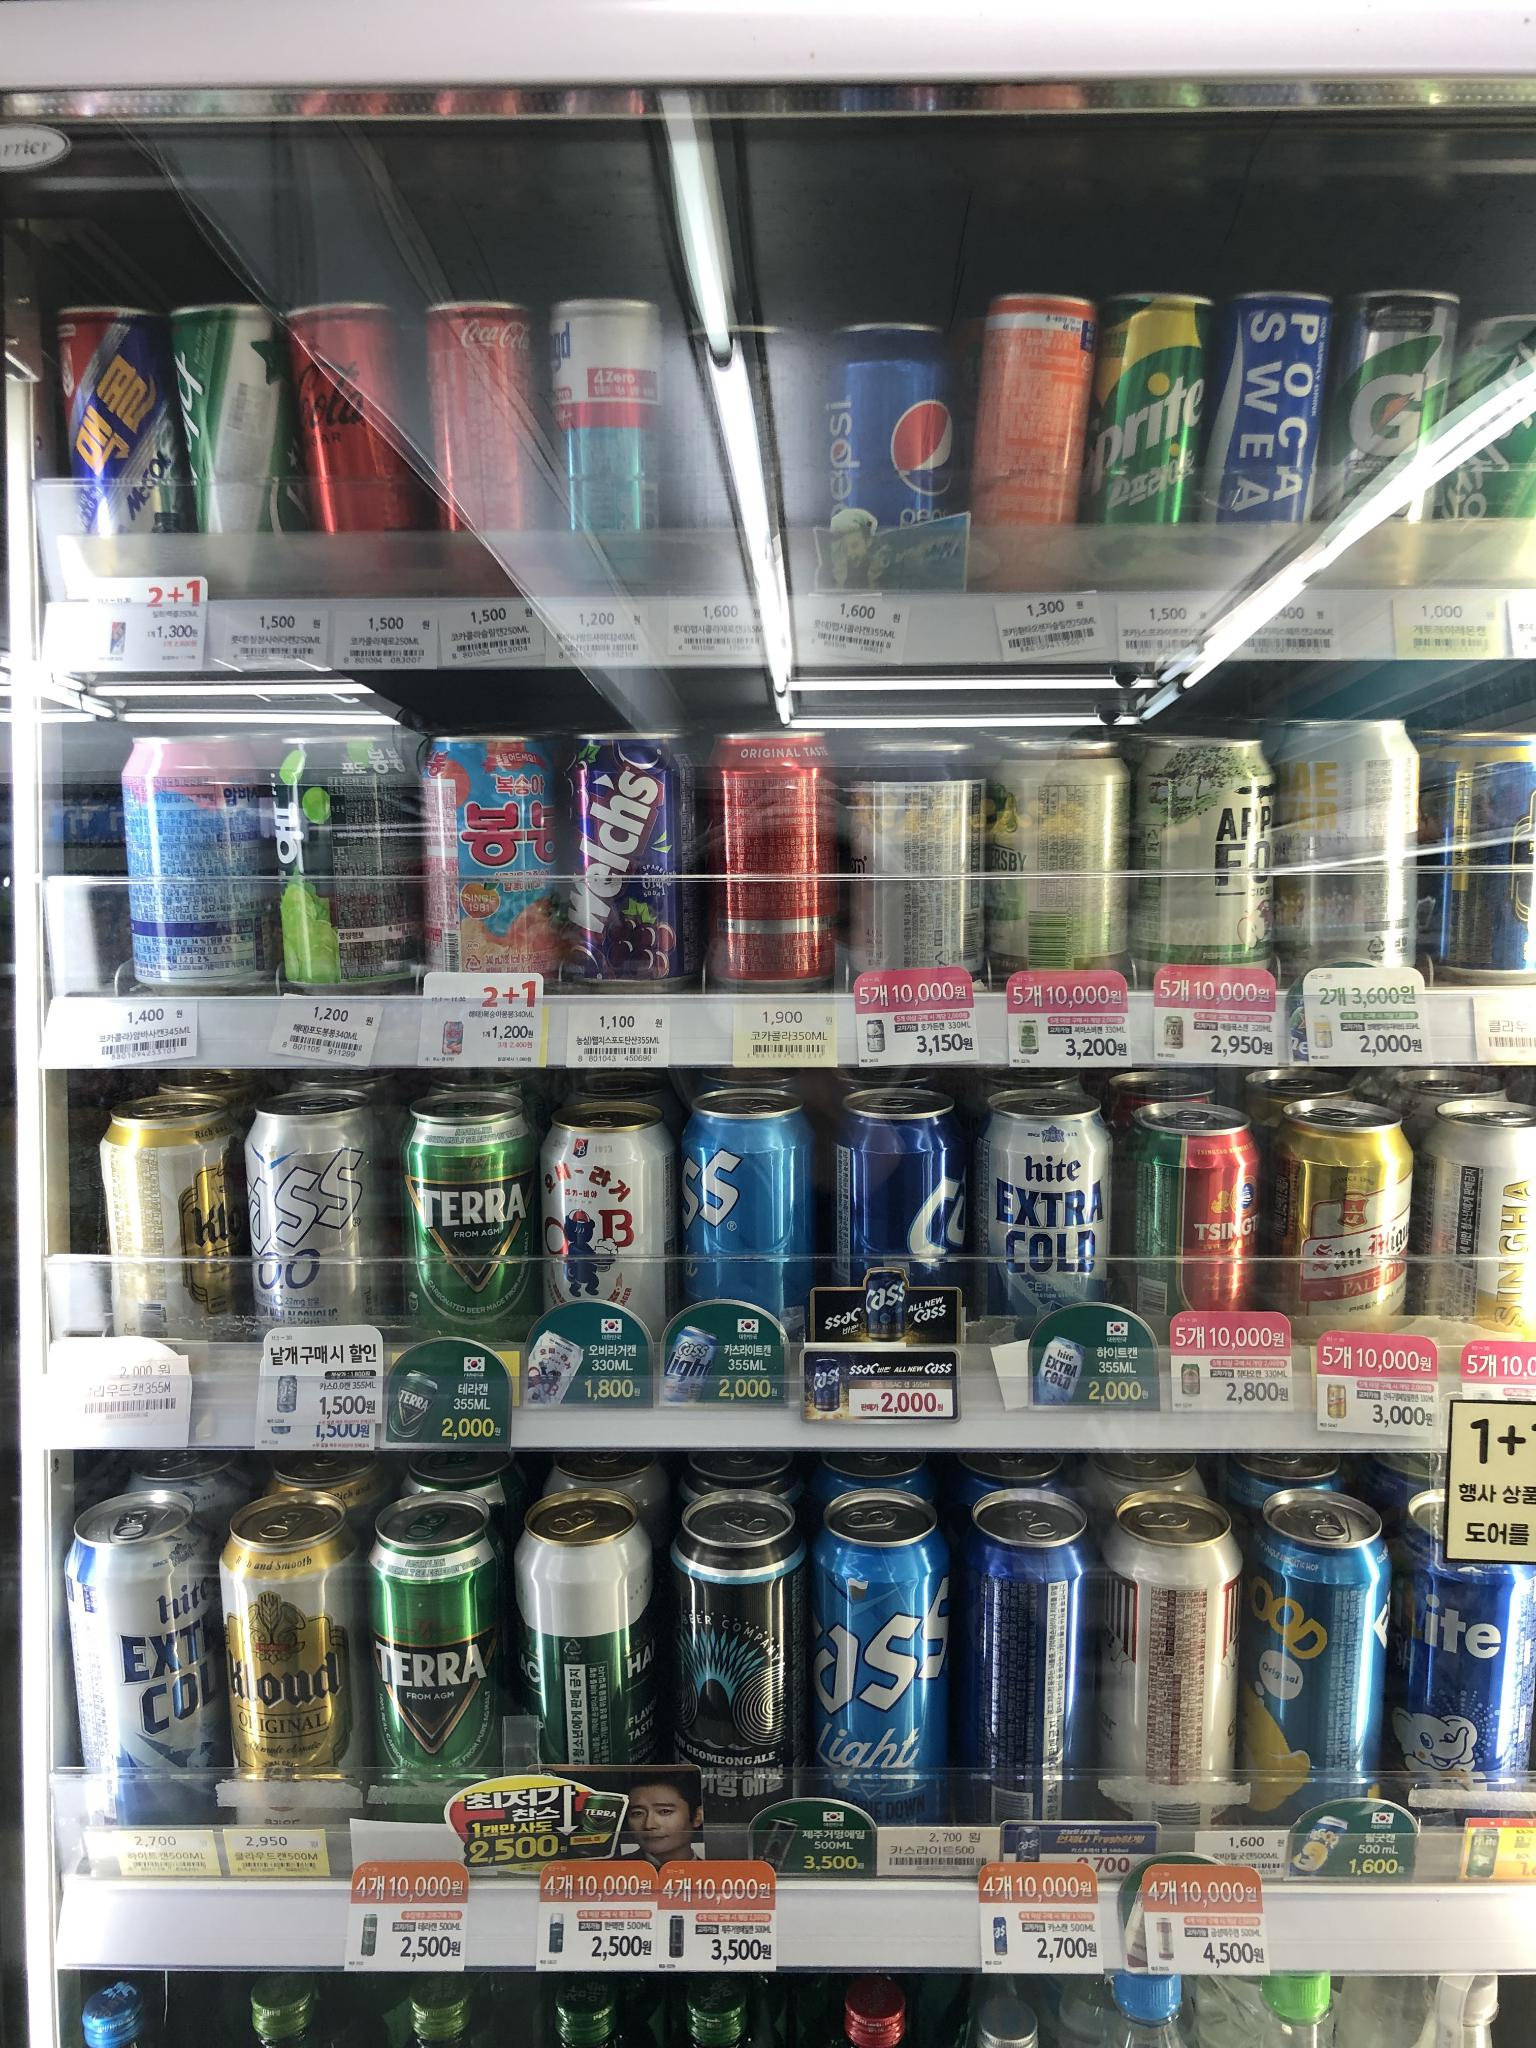cocacola: (703, 724, 849, 997)
narangdcider: (542, 290, 681, 598)
welchs_grape: (561, 711, 691, 985)
